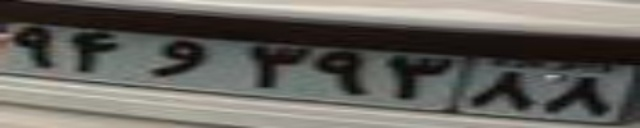3: (385, 53, 453, 99), (250, 44, 309, 88)
4: (68, 30, 118, 71)
8: (543, 72, 612, 116), (468, 71, 534, 110)
9: (314, 50, 364, 96), (10, 26, 57, 68)
vav: (151, 39, 206, 78)
